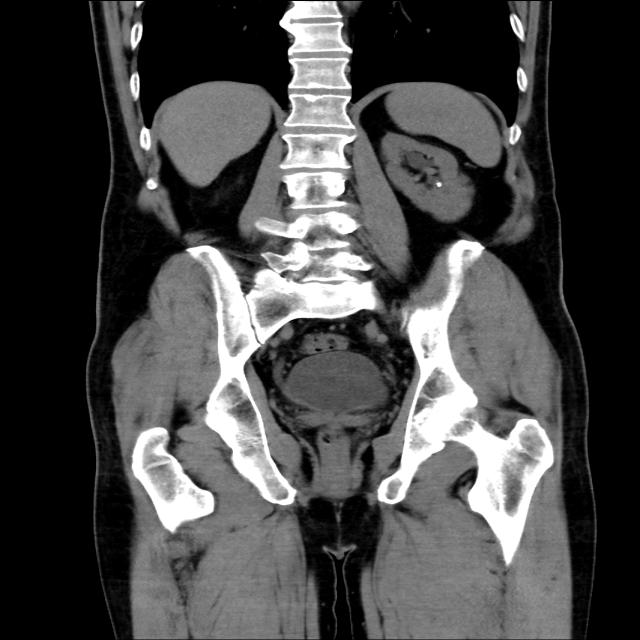kidneystone: (436, 182, 443, 188)
